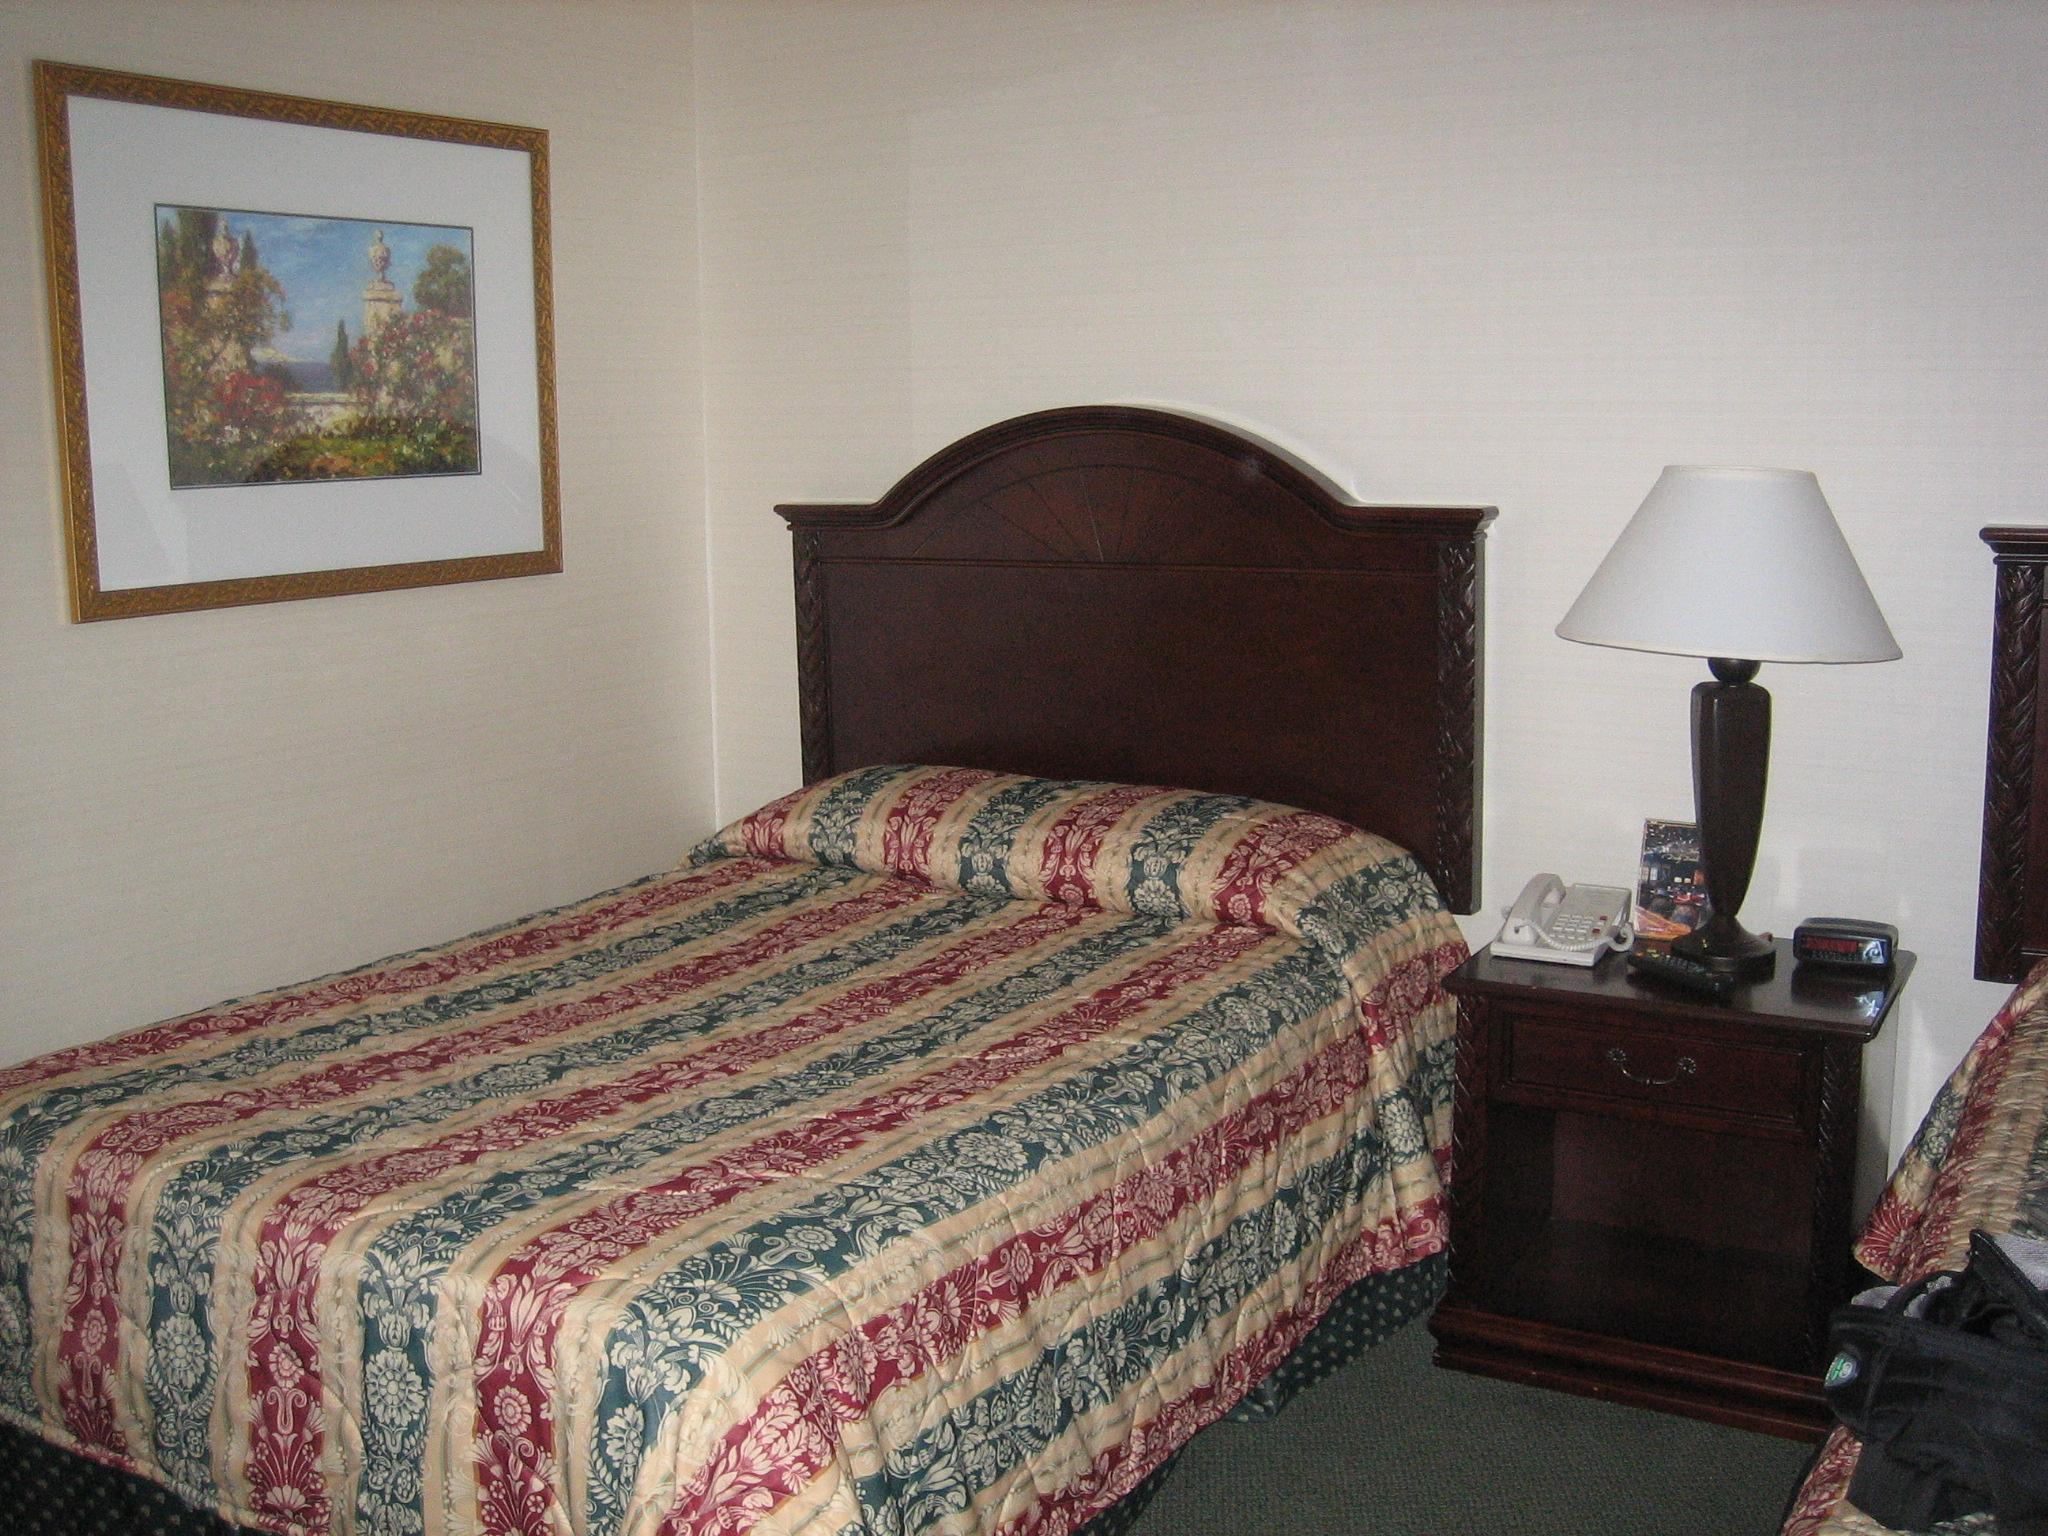Cama: (26, 478, 1514, 1525)
